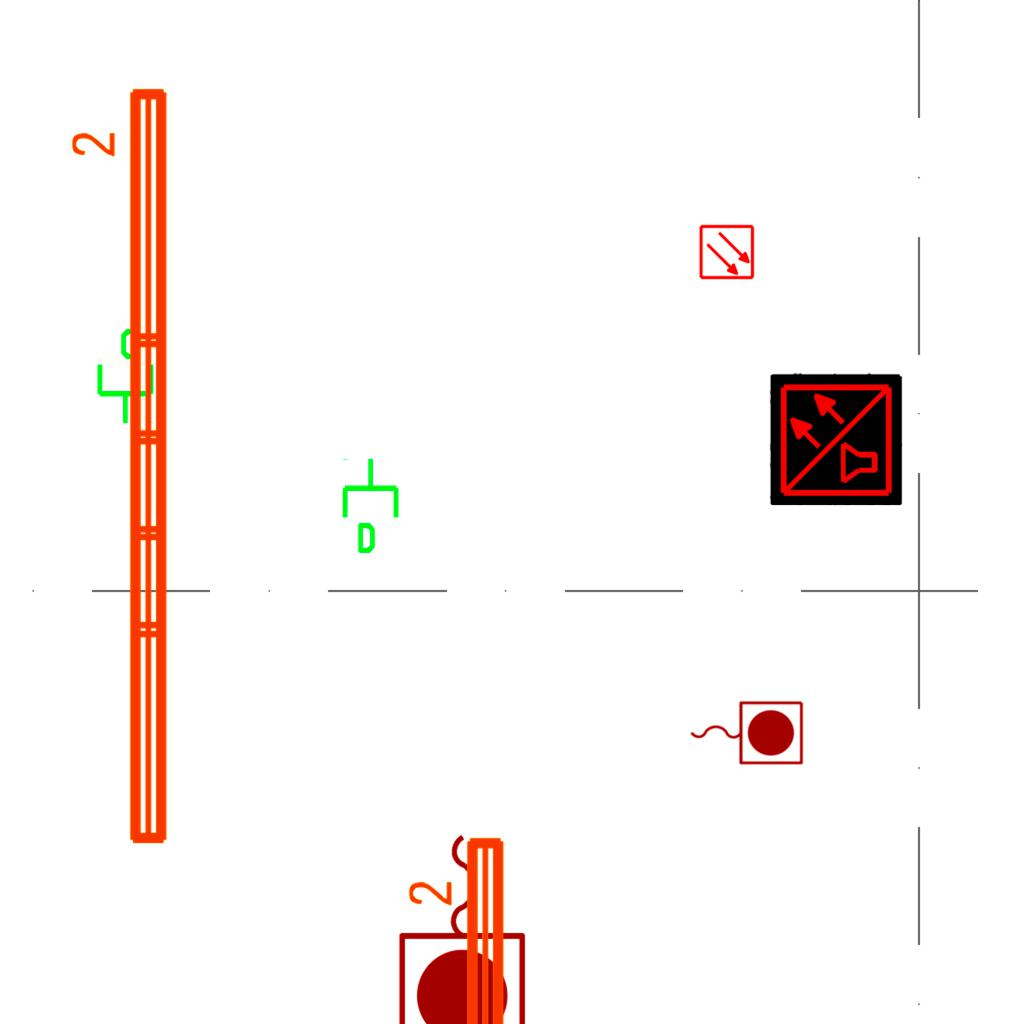Ambulanz_Pendelleuchte_LED: (67, 80, 179, 854), (404, 829, 516, 1024)
Datenanschluss_einfach: (89, 326, 158, 426), (338, 456, 407, 556)
OKW_Multisensormelder_(Kombination_optischer_Rauch-Kahlenmonoxid_Waerme-Melder): (770, 373, 902, 505)
RMO_Rauchmelder_optischer: (699, 224, 755, 280)
Zugtaster: (392, 824, 536, 1024), (685, 696, 807, 768)
